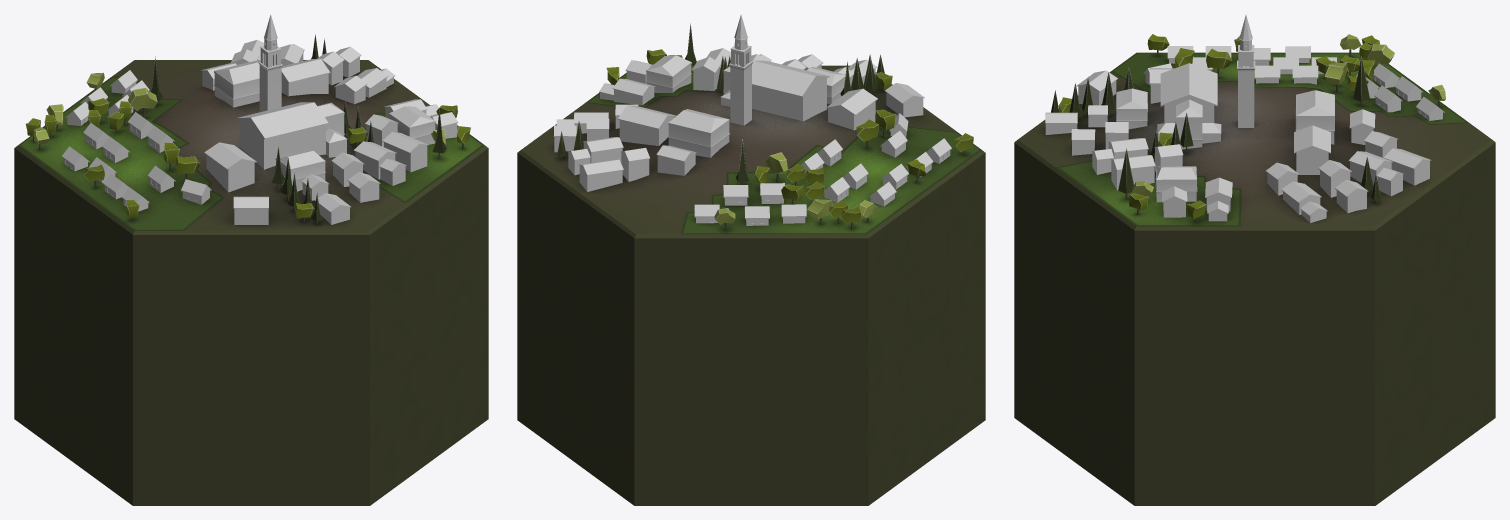
Rendered from Tile_Village.fbx.
3 views of the same model, side by side, from view 1: azimuth 30°, elevation 25°; view 2: azimuth 150°, elevation 25°; view 3: azimuth 270°, elevation 25° (orthographic). The views are drawn at different scales.
Visible parts, largest first — view 1: Village; view 2: Village; view 3: Village.
Part boxes in pixels (box(x1,y1,x2,y2)): Village: box(14, 14, 488, 505); Village: box(517, 14, 985, 505); Village: box(1014, 14, 1495, 505).
Size of the model in its own units: 1931 by 2100 by 2229.
